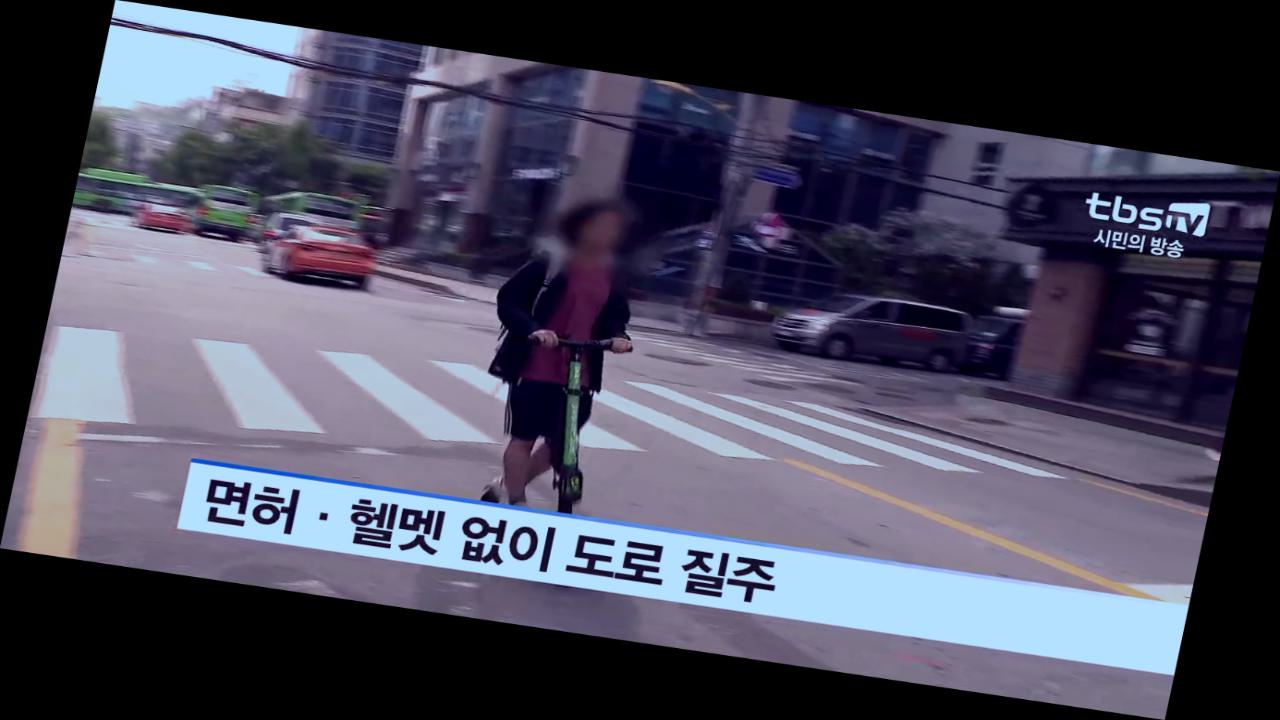nonhelmet: (456, 184, 668, 518)
